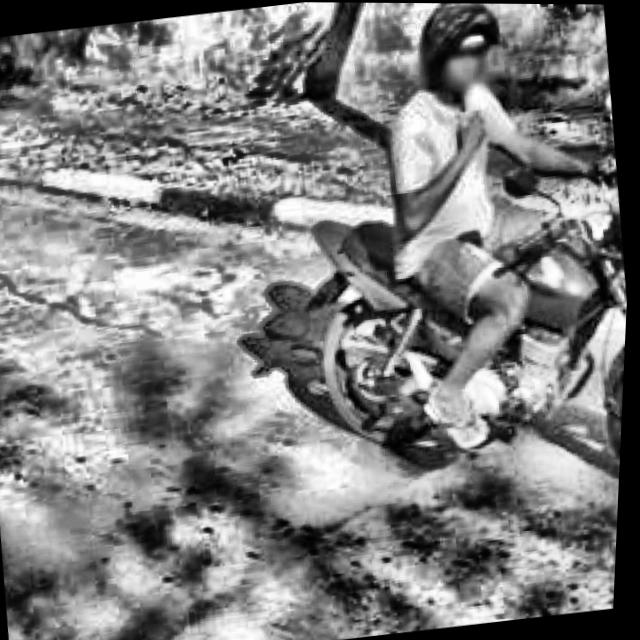motorcycle: (283, 142, 635, 526)
